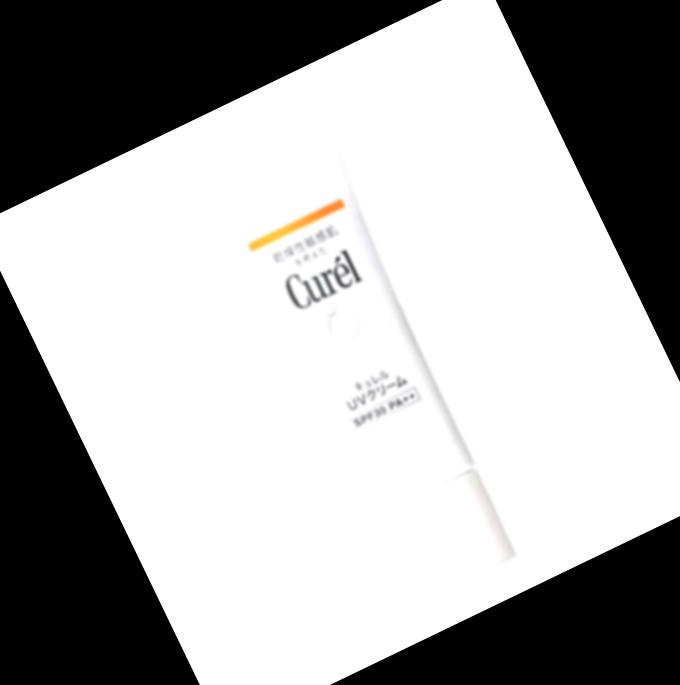cosmetic: (191, 119, 533, 611)
